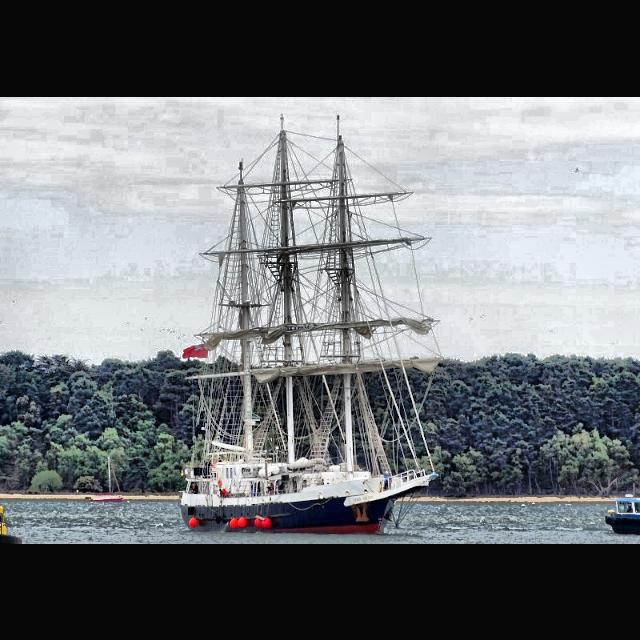sailing_vessel: (178, 112, 438, 536)
